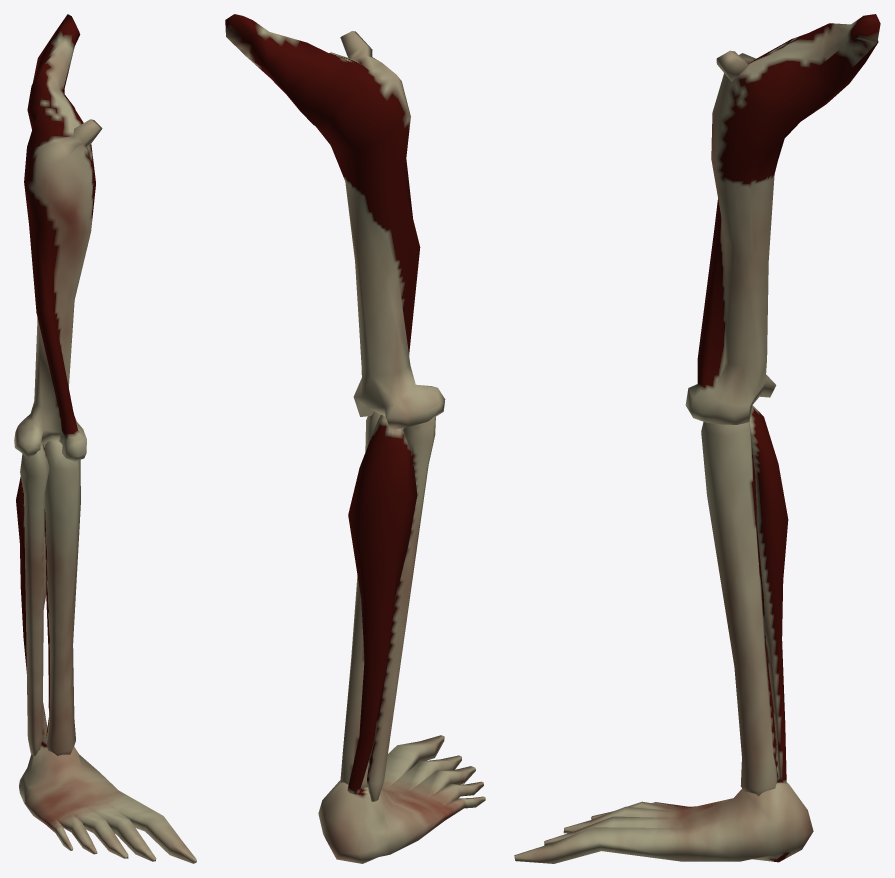
File: R_Leg_231204.fbx
3 renders of one model, left to right at view 1: azimuth 30°, elevation 25°; view 2: azimuth 150°, elevation 25°; view 3: azimuth 270°, elevation 25°, orthographic. The views are drawn at different scales.
Visible parts, largest first — view 1: R_Leg; view 2: R_Leg; view 3: R_Leg.
Boxes of the visible parts, x1,y1,x2,y2 form: R_Leg: [14, 14, 196, 863]; R_Leg: [225, 14, 485, 863]; R_Leg: [514, 14, 880, 863].
Size of the model in its own units: 0.4657 by 2.73 by 1.04.
